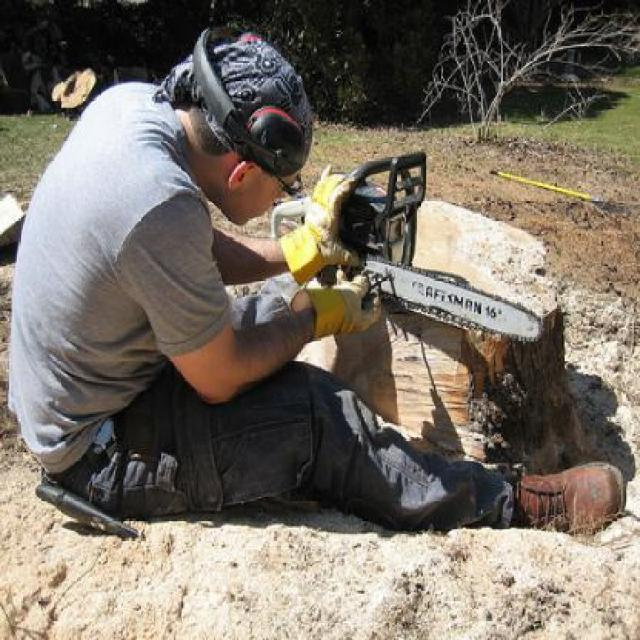Chainsaw: (268, 152, 544, 348)
